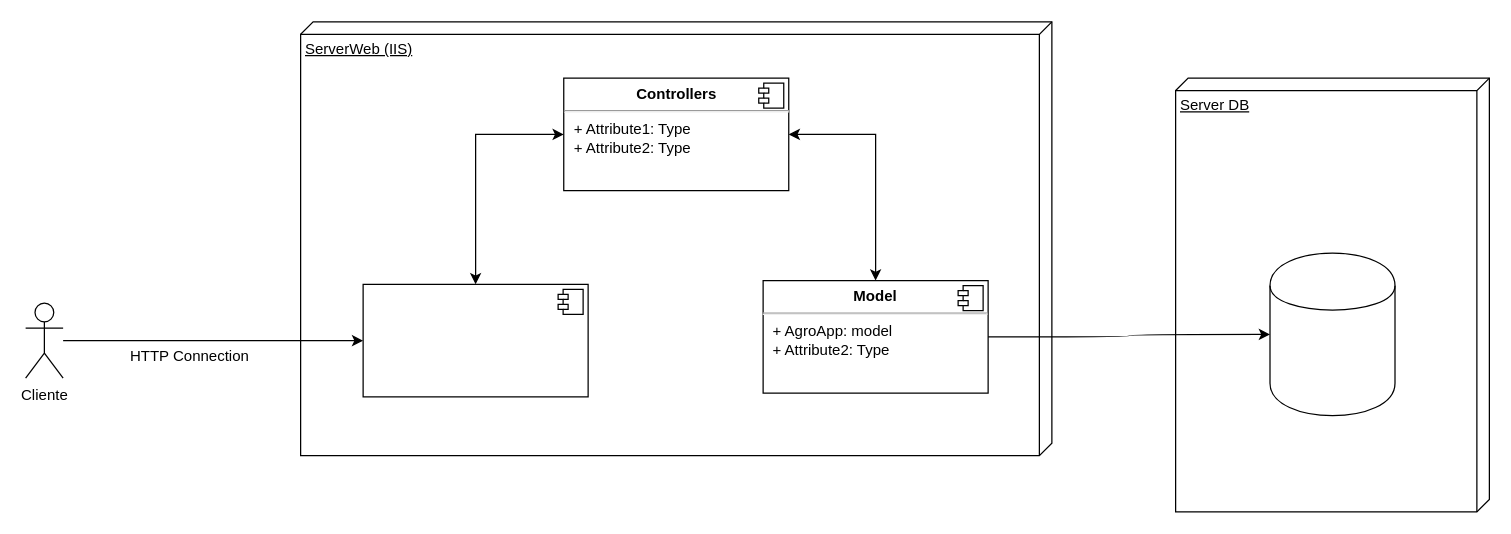
This 1511x534 diagram has some shape labels left out. Each missing label, with the centre of its shape:
"Microsoft SQL Server 2017" belongs at (1332,334).
"Views + Attribute1: Type + Attribute2: Type" belongs at (475,340).
